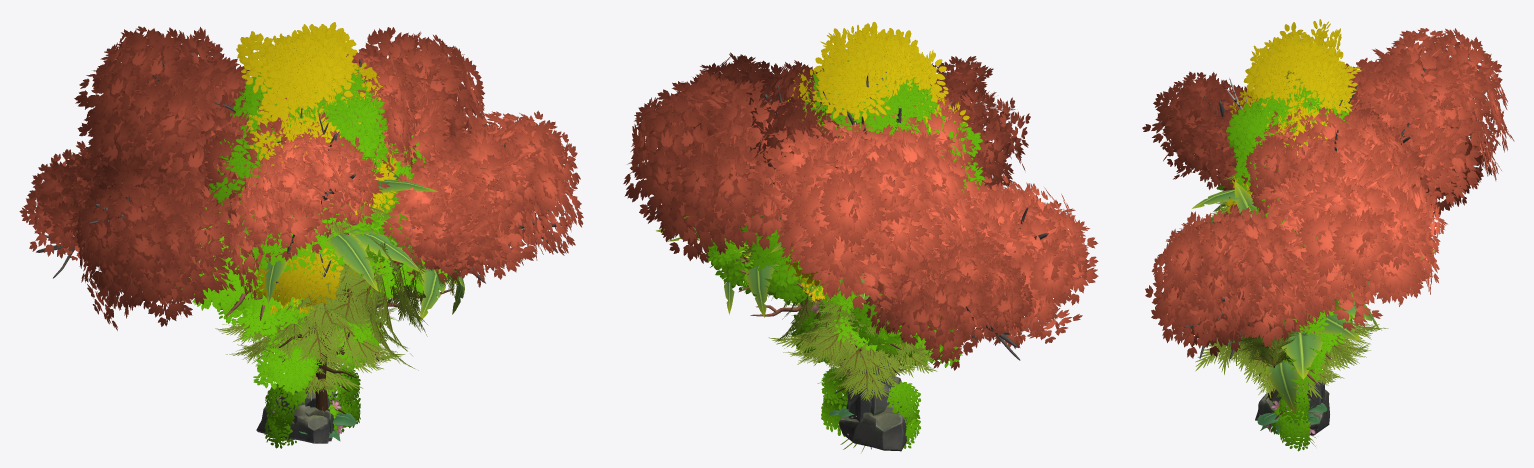
Rendered from natureza.glb.
3 views of the same model, side by side, from view 1: azimuth 30°, elevation 25°; view 2: azimuth 150°, elevation 25°; view 3: azimuth 270°, elevation 25° (orthographic). The views are drawn at different scales.
Visible parts, largest first — view 1: MapleTree_3, MapleTree_2, BirchTree_2, MapleTree_1, PineTree_4, NormalTree_1, NormalTree_3, PineTree_5, NormalTree_2, NormalTree_5, PalmTree_1, PineTree_1 (+7 smaller); view 2: MapleTree_3, MapleTree_2, BirchTree_2, MapleTree_1, PineTree_5, NormalTree_1, NormalTree_3, Rock_5, PineTree_1, NormalTree_2, Bush_Large, NormalTree_5 (+5 smaller); view 3: MapleTree_3, MapleTree_2, BirchTree_2, MapleTree_1, PalmTree_2, PineTree_4, NormalTree_2, NormalTree_1, NormalTree_3, PineTree_5, Bush_Large, Bush_Small (+5 smaller).
Part boxes in pixels (bbox=[...]): MapleTree_3: bbox=[73, 26, 583, 389]; MapleTree_2: bbox=[19, 50, 417, 393]; BirchTree_2: bbox=[236, 22, 398, 308]; MapleTree_1: bbox=[192, 88, 556, 294]; PineTree_4: bbox=[279, 234, 465, 411]; NormalTree_1: bbox=[209, 65, 412, 263]; NormalTree_3: bbox=[218, 203, 450, 342]; PineTree_5: bbox=[215, 258, 397, 400]; NormalTree_2: bbox=[211, 89, 426, 320]; NormalTree_5: bbox=[253, 303, 386, 395]; PalmTree_1: bbox=[223, 179, 437, 303]; PineTree_1: bbox=[222, 263, 405, 391]; MapleTree_3: bbox=[623, 52, 1098, 356]; MapleTree_2: bbox=[746, 56, 1033, 370]; BirchTree_2: bbox=[781, 22, 969, 286]; MapleTree_1: bbox=[693, 81, 975, 248]; PineTree_5: bbox=[783, 275, 940, 401]; NormalTree_1: bbox=[775, 60, 984, 219]; NormalTree_3: bbox=[706, 215, 954, 357]; Rock_5: bbox=[839, 366, 906, 451]; PineTree_1: bbox=[768, 277, 931, 379]; NormalTree_2: bbox=[746, 108, 940, 327]; Bush_Large: bbox=[821, 367, 920, 445]; NormalTree_5: bbox=[790, 289, 962, 375]; MapleTree_3: bbox=[1145, 28, 1514, 358]; MapleTree_2: bbox=[1142, 71, 1491, 233]; BirchTree_2: bbox=[1220, 19, 1362, 212]; MapleTree_1: bbox=[1162, 85, 1429, 356]; PalmTree_2: bbox=[1234, 181, 1434, 413]; PineTree_4: bbox=[1194, 308, 1359, 400]; NormalTree_2: bbox=[1224, 98, 1355, 322]; NormalTree_1: bbox=[1234, 79, 1353, 193]; NormalTree_3: bbox=[1216, 181, 1344, 383]; PineTree_5: bbox=[1244, 320, 1388, 398]; Bush_Large: bbox=[1276, 386, 1310, 447]; Bush_Small: bbox=[1276, 410, 1310, 451].
Bounding box in the file's own units: 8.98 × 7.87 × 6.68.
13 materials, 13 textured.
